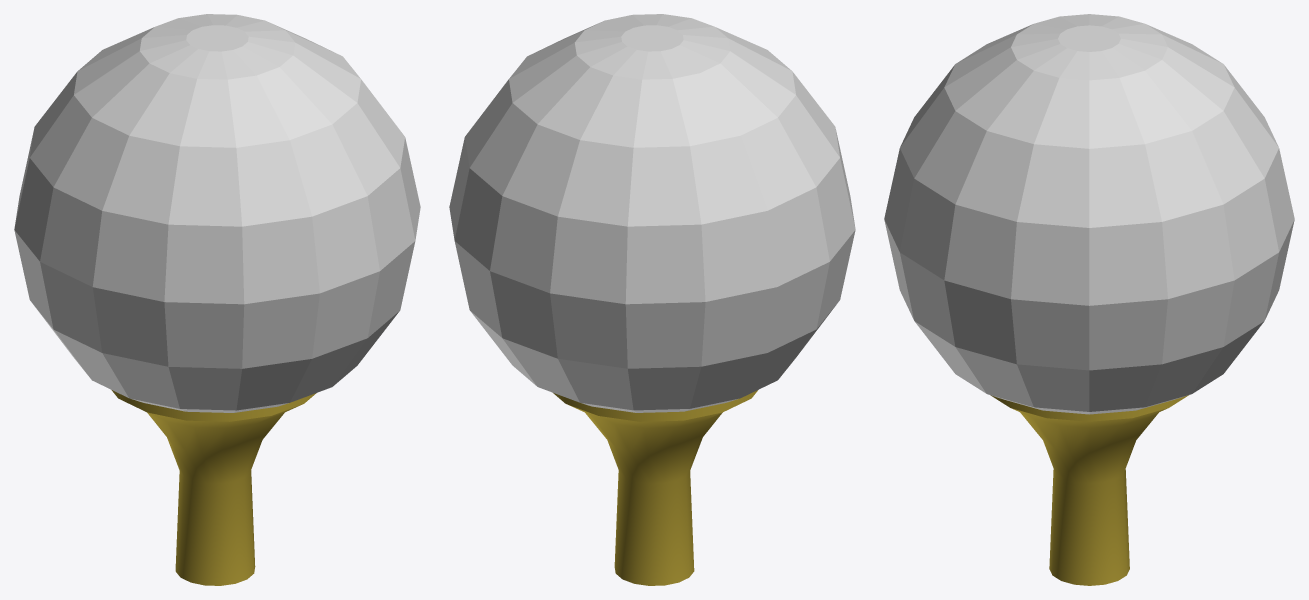
File: Golf ball.FBX
3 renders of one model, left to right at view 1: azimuth 30°, elevation 25°; view 2: azimuth 150°, elevation 25°; view 3: azimuth 270°, elevation 25°, orthographic.
Parts seen in each view (by area): view 1: Golf ball; view 2: Golf ball; view 3: Golf ball.
Part boxes in pixels (x1,y1,x2,y2): Golf ball: (14, 14, 420, 585); Golf ball: (449, 14, 855, 585); Golf ball: (884, 14, 1294, 585).
Size of the model in its own units: 720 by 720 by 1028.
